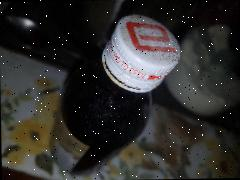glass: (19, 42, 235, 146)
